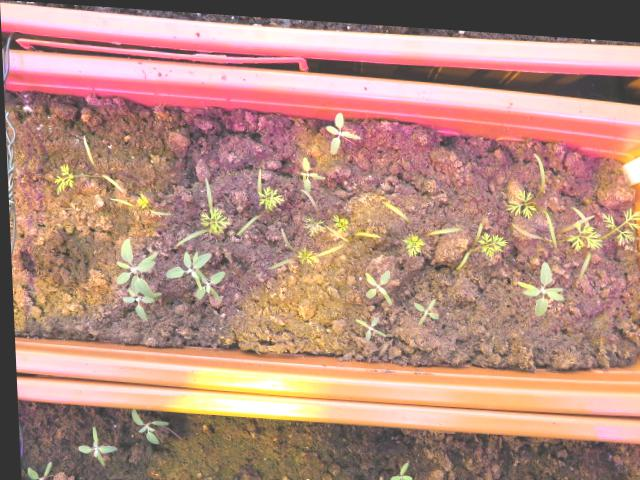weed: (510, 247, 563, 313), (67, 418, 116, 466), (320, 100, 361, 156), (125, 402, 168, 442), (359, 256, 390, 301), (348, 305, 384, 340), (406, 288, 436, 322), (381, 449, 410, 479)
